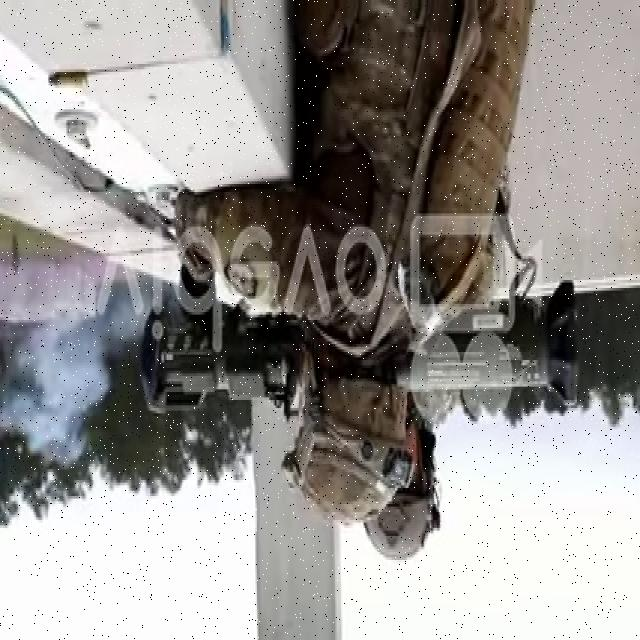bazooka: (129, 264, 590, 426)
